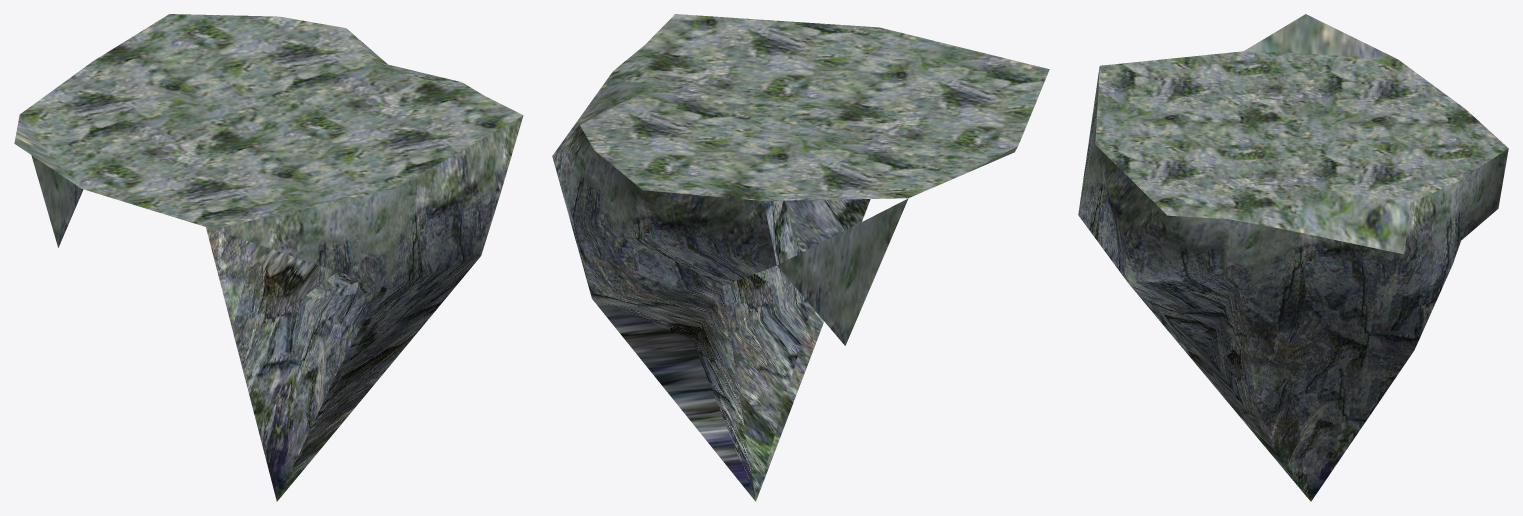
Rendered from nder101.obj.
3 renders of one model, left to right at view 1: azimuth 30°, elevation 25°; view 2: azimuth 150°, elevation 25°; view 3: azimuth 270°, elevation 25°, orthographic. The views are drawn at different scales.
Visible parts, largest first — view 1: nder101; view 2: nder101; view 3: nder101.
Part boxes in pixels (<box>): nder101: <box>14,14,523,501</box>; nder101: <box>552,14,1049,501</box>; nder101: <box>1078,14,1508,501</box>.
Bounding box in the file's own units: 364 × 338 × 353.
